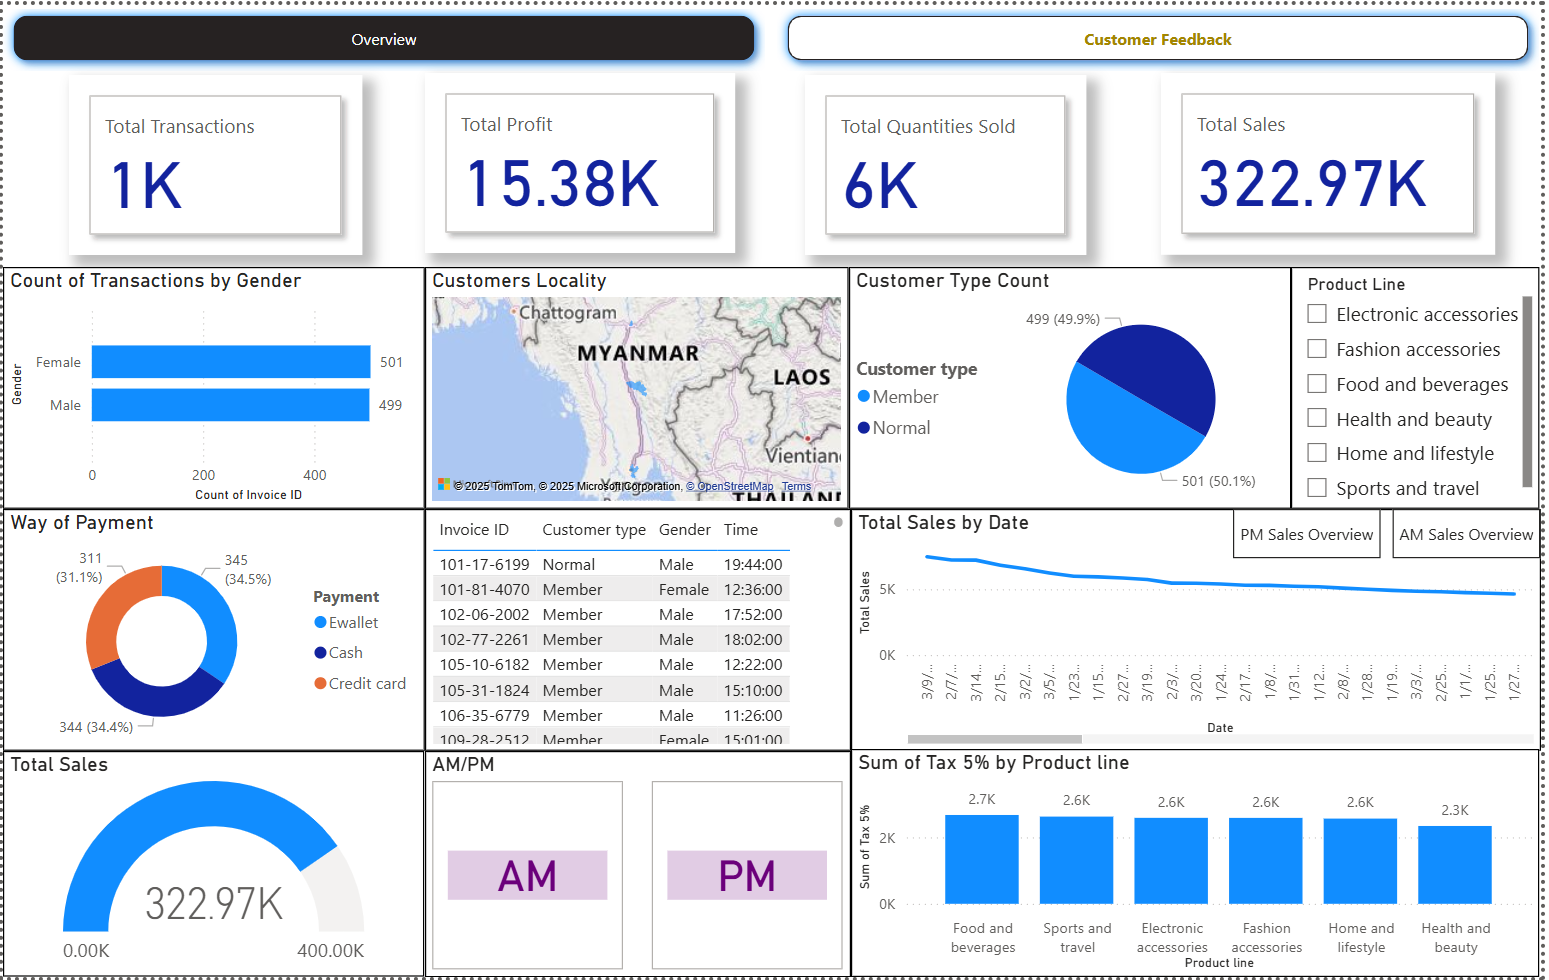

The dashboard page shown, as its layout file describes it:
{"tool":"powerbi","page":{"name":"Overview","canvas":[1281,810],"ordinal":0},"visuals":[{"type":"cardVisual","fields":{"Data":["supermarket_sales+-+Sheet1.Total Profit"]},"box":[351.4,57.1,258.6,150],"z":0},{"type":"cardVisual","fields":{"Data":["supermarket_sales+-+Sheet1.Total Sales"]},"box":[965.7,57.1,278.6,151.4],"z":1000},{"type":"cardVisual","fields":{"Data":["supermarket_sales+-+Sheet1.Total Quantities Sold"]},"box":[668.6,58.6,234.3,150],"z":2000},{"type":"cardVisual","fields":{"Data":["supermarket_sales+-+Sheet1.Total Transactions"]},"box":[54.3,58.6,244.3,150],"z":3000},{"type":"clusteredBarChart","title":"Count of Transactions by Gender","fields":{"Category":["supermarket_sales+-+Sheet1.Gender"],"Y":["CountNonNull(supermarket_sales+-+Sheet1.Invoice ID)"]},"box":[0,218.6,351.4,201.4],"z":4000},{"type":"filledMap","title":"Customers Locality","fields":{"Category":["supermarket_sales+-+Sheet1.City"]},"box":[351.4,218.6,352.9,201.4],"z":5000},{"type":"pieChart","title":"Customer Type Count","fields":{"Category":["supermarket_sales+-+Sheet1.Customer type"],"Y":["CountNonNull(supermarket_sales+-+Sheet1.Customer type)"]},"box":[704.3,218.6,368.6,201.4],"z":6000},{"type":"slicer","fields":{"Values":["supermarket_sales+-+Sheet1.Product line"]},"box":[1072.9,218.6,207.1,201.4],"z":7000},{"type":"donutChart","title":"Way of Payment","fields":{"Y":["CountNonNull(supermarket_sales+-+Sheet1.Payment)"],"Category":["supermarket_sales+-+Sheet1.Payment"]},"box":[0,420,351.4,201.4],"z":8000},{"type":"pageNavigator","box":[0,0,1280,55.7],"z":9000},{"type":"tableEx","fields":{"Values":["supermarket_sales+-+Sheet1.Invoice ID","supermarket_sales+-+Sheet1.Customer type","supermarket_sales+-+Sheet1.Gender","supermarket_sales+-+Sheet1.Time"]},"box":[351.7,420,355,201.7],"z":10000},{"type":"lineChart","fields":{"Category":["supermarket_sales+-+Sheet1.Date"],"Y":["supermarket_sales+-+Sheet1.Total Sales"]},"box":[706.7,420,575,201.7],"z":11000},{"type":"clusteredColumnChart","fields":{"Category":["supermarket_sales+-+Sheet1.Product line"],"Y":["Sum(supermarket_sales+-+Sheet1.Tax 5%)"]},"box":[706.7,620,573.3,190],"z":12000},{"type":"advancedSlicerVisual","fields":{"Values":["supermarket_sales+-+Sheet1.AM/PM"]},"box":[351.7,621.7,355,188.3],"z":13000},{"type":"gauge","fields":{"Y":["supermarket_sales+-+Sheet1.Total Sales"]},"box":[0,622,351,188],"z":14000},{"type":"bookmarkNavigator","box":[1025,420,256.7,41.7],"z":14001}]}

Visuals, with their boxes in screenshot pixels (x1, y1, x2, y2), scaled from the page's 1281x810 canvas onto the 1549x980 screenshot:
cardVisual - supermarket_sales+-+Sheet1.Total Profit: box(425, 69, 738, 251)
cardVisual - supermarket_sales+-+Sheet1.Total Sales: box(1168, 69, 1505, 252)
cardVisual - supermarket_sales+-+Sheet1.Total Quantities Sold: box(808, 71, 1092, 252)
cardVisual - supermarket_sales+-+Sheet1.Total Transactions: box(66, 71, 361, 252)
"Count of Transactions by Gender" clusteredBarChart: box(0, 264, 425, 508)
"Customers Locality" filledMap: box(425, 264, 852, 508)
"Customer Type Count" pieChart: box(852, 264, 1297, 508)
slicer - supermarket_sales+-+Sheet1.Product line: box(1297, 264, 1548, 508)
"Way of Payment" donutChart: box(0, 508, 425, 752)
pageNavigator: box(0, 0, 1548, 67)
tableEx - supermarket_sales+-+Sheet1.Invoice ID x supermarket_sales+-+Sheet1.Customer type: box(425, 508, 855, 752)
lineChart - supermarket_sales+-+Sheet1.Date x supermarket_sales+-+Sheet1.Total Sales: box(855, 508, 1548, 752)
clusteredColumnChart - supermarket_sales+-+Sheet1.Product line x Sum(supermarket_sales+-+Sheet1.Tax 5%): box(855, 750, 1548, 979)
advancedSlicerVisual - supermarket_sales+-+Sheet1.AM/PM: box(425, 752, 855, 979)
gauge - supermarket_sales+-+Sheet1.Total Sales: box(0, 753, 424, 979)
bookmarkNavigator: box(1239, 508, 1548, 559)
